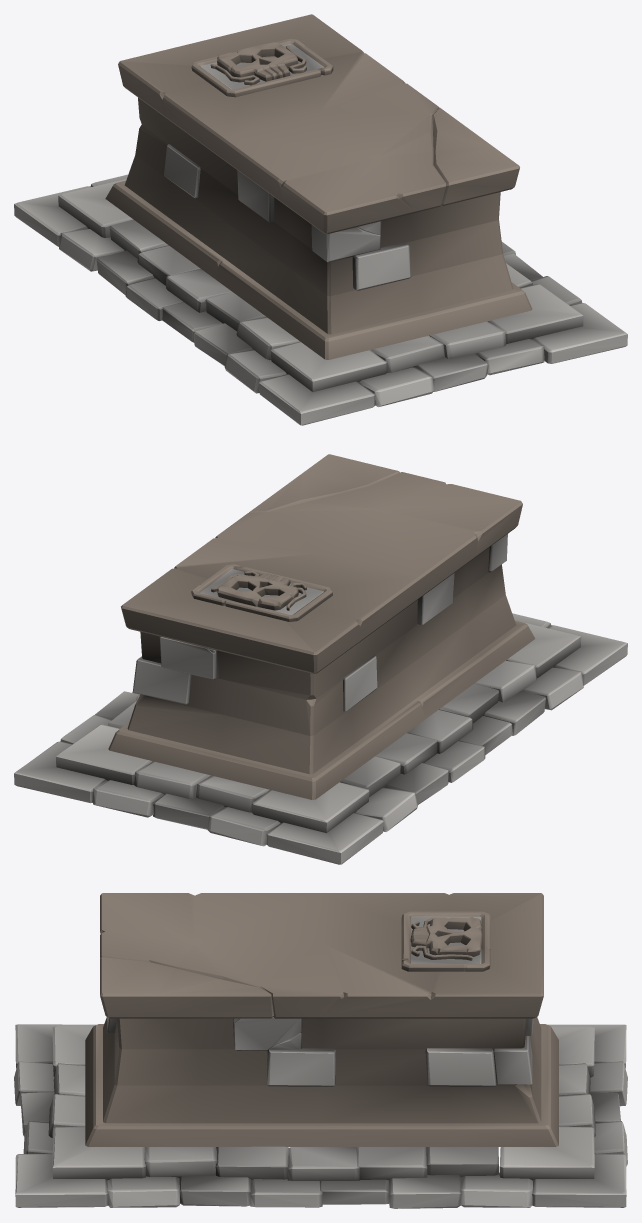
Rendered from obj_tomb.FBX.
The picture shows the model from 3 angles, top to bottom: view 1: azimuth 30°, elevation 25°; view 2: azimuth 150°, elevation 25°; view 3: azimuth 270°, elevation 25°; orthographic projection. The views are drawn at different scales.
Visible parts, largest first — view 1: obj_tomb; view 2: obj_tomb; view 3: obj_tomb.
Part boxes in pixels (<box>): obj_tomb: <box>14,14,627,425</box>; obj_tomb: <box>14,454,627,864</box>; obj_tomb: <box>14,893,627,1208</box>.
Bounding box in the file's own units: 2.9 × 1.52 × 4.4.
